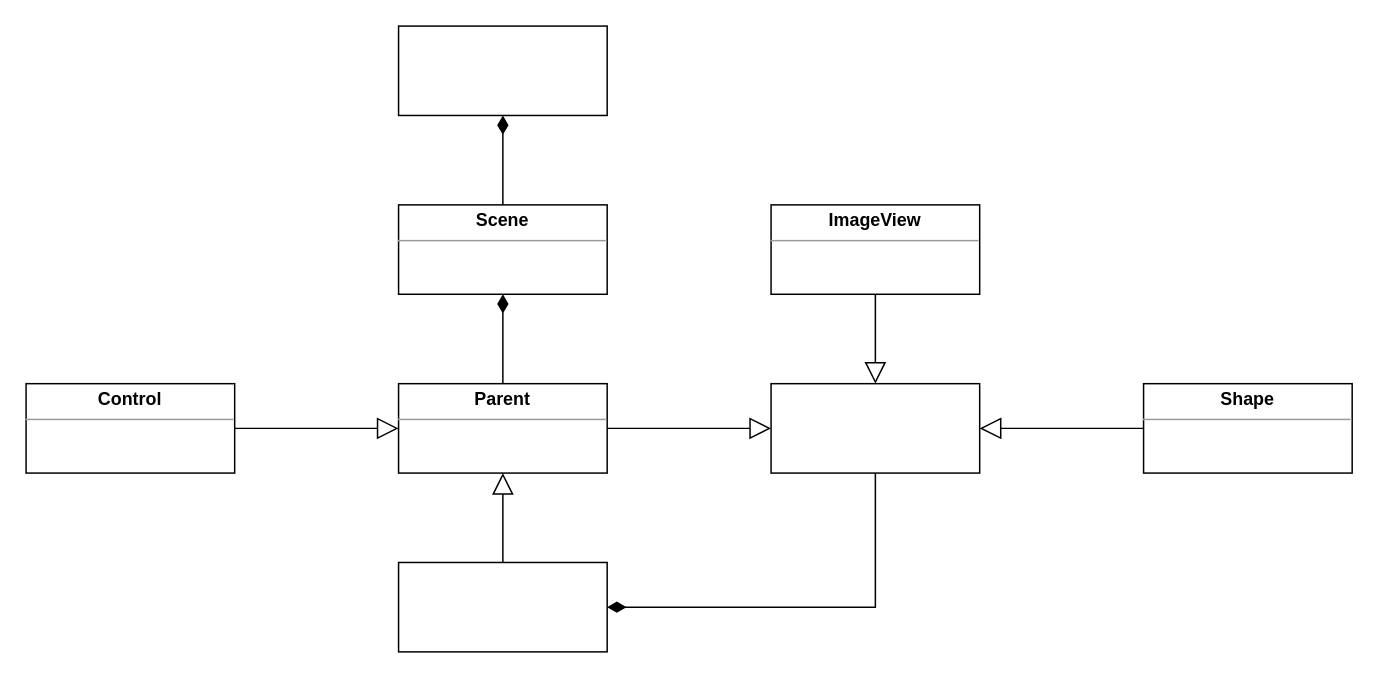
This 1378x678 diagram has some shape labels left out. Each missing label, with the box of its shape:
Node: (770, 382, 980, 473)
Pane: (397, 561, 607, 652)
Stage: (397, 25, 607, 115)
